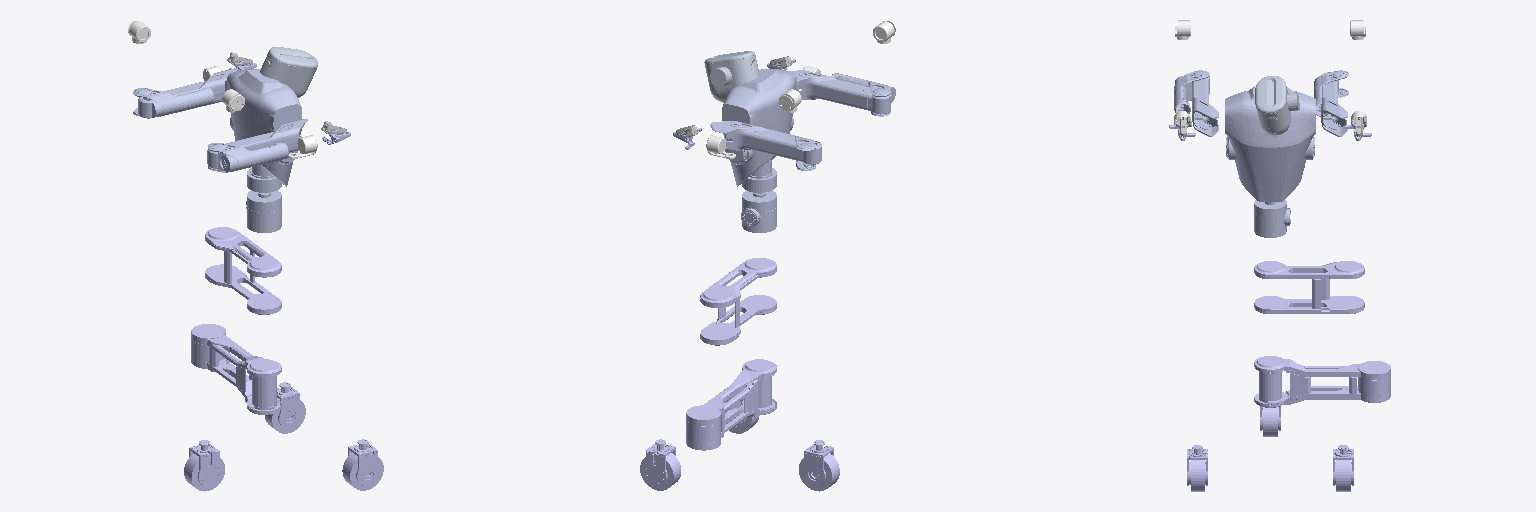
--- Facts derived from the render (not from the file) ---
3 views of the same robot in one strip: view 1: azimuth 30°, elevation 25°; view 2: azimuth 150°, elevation 25°; view 3: azimuth 270°, elevation 25° (orthographic).
Robot: R1 — 30 links, 29 joints (19 revolute, 3 continuous, 4 prismatic, 3 fixed); root link base_link; default pose: all joints at 0.
Links seen in each view (by area): view 1: torso_link4, torso_link1, torso_link2, zed_link, right_arm_link3, torso_link3, left_arm_link3, right_arm_link2, left_arm_link2, servo_link3, servo_link2, servo_link1 (+2 smaller); view 2: torso_link4, torso_link1, torso_link2, left_arm_link2, right_arm_link2, zed_link, torso_link3, servo_link1, servo_link3, wheel_link3, right_arm_link3, wheel_link1; view 3: torso_link4, torso_link1, torso_link2, zed_link, torso_link3, right_arm_link2, left_arm_link2, right_arm_link3, left_arm_link3.
Boxes of the visible links, x1=… form: torso_link4: x1=225, y1=69, x2=301, y2=192; torso_link1: x1=191, y1=324, x2=281, y2=414; torso_link2: x1=205, y1=227, x2=281, y2=314; zed_link: x1=260, y1=47, x2=317, y2=97; right_arm_link3: x1=208, y1=142, x2=288, y2=172; torso_link3: x1=246, y1=190, x2=281, y2=232; left_arm_link3: x1=133, y1=88, x2=213, y2=117; right_arm_link2: x1=207, y1=119, x2=307, y2=168; left_arm_link2: x1=138, y1=68, x2=238, y2=118; servo_link3: x1=189, y1=440, x2=221, y2=486; servo_link2: x1=348, y1=439, x2=379, y2=485; servo_link1: x1=277, y1=382, x2=301, y2=428; torso_link4: x1=722, y1=69, x2=798, y2=192; torso_link1: x1=686, y1=359, x2=776, y2=450; torso_link2: x1=700, y1=258, x2=776, y2=345; left_arm_link2: x1=710, y1=121, x2=821, y2=164; right_arm_link2: x1=788, y1=70, x2=890, y2=114; zed_link: x1=704, y1=51, x2=759, y2=102; torso_link3: x1=741, y1=190, x2=776, y2=232; servo_link1: x1=644, y1=439, x2=675, y2=485; servo_link3: x1=802, y1=440, x2=833, y2=486; wheel_link3: x1=799, y1=453, x2=839, y2=491; right_arm_link3: x1=831, y1=73, x2=895, y2=116; wheel_link1: x1=640, y1=453, x2=680, y2=490; torso_link4: x1=1225, y1=86, x2=1315, y2=202; torso_link1: x1=1254, y1=356, x2=1390, y2=407; torso_link2: x1=1254, y1=261, x2=1364, y2=313; zed_link: x1=1255, y1=76, x2=1299, y2=134; torso_link3: x1=1254, y1=200, x2=1290, y2=237; right_arm_link2: x1=1192, y1=76, x2=1218, y2=136; left_arm_link2: x1=1321, y1=72, x2=1347, y2=136; right_arm_link3: x1=1174, y1=70, x2=1209, y2=113; left_arm_link3: x1=1314, y1=70, x2=1348, y2=116.
Size in the robot's own frame: 0.7034 by 0.8519 by 1.72 metres.
Meshes: 30 distinct files referenced, 29 mesh visuals loaded (29 binary STL); not drawn: 1 (reference not matched to a file when rendering).

robot.urdf — R1:
<?xml version="1.0" encoding="utf-8"?>
<!-- This URDF was automatically created by SolidWorks to URDF Exporter! Originally created by Stephen Brawner ([email redacted]) 
     Commit Version: 1.6.0-4-g7f85cfe  Build Version: 1.6.7995.38578
     For more information, please see http://wiki.ros.org/sw_urdf_exporter -->
<robot
  name="R1">
  <link
    name="base_link">
    <inertial>
      <origin
        xyz="-0.0030503 -9.6245E-05 0.14087"
        rpy="0 0 0" />
      <mass
        value="68.732" />
      <inertia
        ixx="1.5812"
        ixy="-1.0627E-05"
        ixz="0.053601"
        iyy="1.4648"
        iyz="5.7052E-06"
        izz="2.835" />
    </inertial>
    <visual>
      <origin
        xyz="0 0 0"
        rpy="0 0 0" />
      <geometry>
        <mesh
          filename="package://R1/meshes/base_link.STL" />
      </geometry>
      <material
        name="">
        <color
          rgba="0.82353 0.82353 1 1" />
      </material>
    </visual>
    <collision>
      <origin
        xyz="0 0 0"
        rpy="0 0 0" />
      <geometry>
        <mesh
          filename="package://R1/meshes/base_link.STL" />
      </geometry>
    </collision>
  </link>
  <link
    name="servo_link1">
    <inertial>
      <origin
        xyz="7.5341E-06 -0.0035676 -0.04821"
        rpy="0 0 0" />
      <mass
        value="1.0" />
      <inertia
        ixx="0.00021869"
        ixy="-3.4649E-09"
        ixz="2.6493E-09"
        iyy="0.00032528"
        iyz="2.5507E-07"
        izz="0.00015773" />
    </inertial>
    <visual>
      <origin
        xyz="0 0 0"
        rpy="0 0 0" />
      <geometry>
        <mesh
          filename="package://R1/meshes/servo_link1.STL" />
      </geometry>
      <material
        name="">
        <color
          rgba="0.82353 0.82353 1 1" />
      </material>
    </visual>
    <collision>
      <origin
        xyz="0 0 0"
        rpy="0 0 0" />
      <geometry>
        <mesh
          filename="package://R1/meshes/servo_link1.STL" />
      </geometry>
    </collision>
  </link>
  <joint
    name="servo_joint1"
    type="revolute">
    <origin
      xyz="0.21516 0.28001 0.116"
      rpy="0 0 0" />
    <parent
      link="base_link" />
    <child
      link="servo_link1" />
    <axis
      xyz="0 0 1" />
    <limit
      lower="-1.5708"
      upper="1.5708"
      effort="44"
      velocity="3.1416" />
  </joint>
  <link
    name="wheel_link1">
    <inertial>
      <origin
        xyz="-2.0533E-09 -6.2367E-09 -0.0277"
        rpy="0 0 0" />
      <mass
        value="2.2" />
      <inertia
        ixx="0.0012628"
        ixy="-5.7971E-09"
        ixz="-7.3456E-12"
        iyy="0.0012628"
        iyz="-1.6082E-11"
        izz="0.0020893" />
    </inertial>
    <visual>
      <origin
        xyz="0 0 0"
        rpy="0 0 0" />
      <geometry>
        <mesh
          filename="package://R1/meshes/wheel_link1.STL" />
      </geometry>
      <material
        name="">
        <color
          rgba="0.82353 0.82353 1 1" />
      </material>
    </visual>
    <collision>
      <origin
        xyz="0 0 0"
        rpy="0 0 0" />
      <geometry>
        <mesh
          filename="package://R1/meshes/wheel_link1.STL" />
      </geometry>
    </collision>
  </link>
  <joint
    name="wheel_joint1"
    type="continuous">
    <origin
      xyz="0 0.027694 -0.08765"
      rpy="-1.5708 0 0" />
    <parent
      link="servo_link1" />
    <child
      link="wheel_link1" />
    <axis
      xyz="0 0 1" />
  </joint>
  <link
    name="servo_link2">
    <inertial>
      <origin
        xyz="7.5219E-06 -0.0035675 -0.04821"
        rpy="0 0 0" />
      <mass
        value="1.0" />
      <inertia
        ixx="0.0002187"
        ixy="-3.4594E-09"
        ixz="2.4969E-09"
        iyy="0.00032528"
        iyz="2.5522E-07"
        izz="0.00015773" />
    </inertial>
    <visual>
      <origin
        xyz="0 0 0"
        rpy="0 0 0" />
      <geometry>
        <mesh
          filename="package://R1/meshes/servo_link2.STL" />
      </geometry>
      <material
        name="">
        <color
          rgba="0.82353 0.82353 1 1" />
      </material>
    </visual>
    <collision>
      <origin
        xyz="0 0 0"
        rpy="0 0 0" />
      <geometry>
        <mesh
          filename="package://R1/meshes/servo_link2.STL" />
      </geometry>
    </collision>
  </link>
  <joint
    name="servo_joint2"
    type="revolute">
    <origin
      xyz="0.21516 -0.27999 0.116"
      rpy="0 0 0" />
    <parent
      link="base_link" />
    <child
      link="servo_link2" />
    <axis
      xyz="0 0 1" />
    <limit
      lower="-1.5708"
      upper="1.5708"
      effort="44"
      velocity="3.1416" />
  </joint>
  <link
    name="wheel_link2">
    <inertial>
      <origin
        xyz="-2.0528E-09 -6.2367E-09 -0.0277"
        rpy="0 0 0" />
      <mass
        value="2.2" />
      <inertia
        ixx="0.0012628"
        ixy="-5.7971E-09"
        ixz="-7.3429E-12"
        iyy="0.0012628"
        iyz="-1.6081E-11"
        izz="0.0020893" />
    </inertial>
    <visual>
      <origin
        xyz="0 0 0"
        rpy="0 0 0" />
      <geometry>
        <mesh
          filename="package://R1/meshes/wheel_link2.STL" />
      </geometry>
      <material
        name="">
        <color
          rgba="0.82353 0.82353 1 1" />
      </material>
    </visual>
    <collision>
      <origin
        xyz="0 0 0"
        rpy="0 0 0" />
      <geometry>
        <mesh
          filename="package://R1/meshes/wheel_link2.STL" />
      </geometry>
    </collision>
  </link>
  <joint
    name="wheel_joint2"
    type="continuous">
    <origin
      xyz="0 0.0276943179214421 -0.0876499639638649"
      rpy="-1.5707948453441 0 0" />
    <parent
      link="servo_link2" />
    <child
      link="wheel_link2" />
    <axis
      xyz="0 0 1" />
  </joint>
  <link
    name="servo_link3">
    <inertial>
      <origin
        xyz="-7.163E-06 0.0035641 -0.04821"
        rpy="0 0 0" />
      <mass
        value="1.0" />
      <inertia
        ixx="0.0002187"
        ixy="-3.3419E-09"
        ixz="-2.0956E-09"
        iyy="0.00032528"
        iyz="-2.5463E-07"
        izz="0.00015773" />
    </inertial>
    <visual>
      <origin
        xyz="0 0 0"
        rpy="0 0 0" />
      <geometry>
        <mesh
          filename="package://R1/meshes/servo_link3.STL" />
      </geometry>
      <material
        name="">
        <color
          rgba="0.82353 0.82353 1 1" />
      </material>
    </visual>
    <collision>
      <origin
        xyz="0 0 0"
        rpy="0 0 0" />
      <geometry>
        <mesh
          filename="package://R1/meshes/servo_link3.STL" />
      </geometry>
    </collision>
  </link>
  <joint
    name="servo_joint3"
    type="revolute">
    <origin
      xyz="-0.28085 0 0.116"
      rpy="0 0 0" />
    <parent
      link="base_link" />
    <child
      link="servo_link3" />
    <axis
      xyz="0 0 1" />
    <limit
      lower="-1.5708"
      upper="1.5708"
      effort="44"
      velocity="3.1416" />
  </joint>
  <link
    name="wheel_link3">
    <inertial>
      <origin
        xyz="7.3358E-09 4.0895E-09 -0.0277"
        rpy="0 0 0" />
      <mass
        value="2.0" />
      <inertia
        ixx="0.0012628"
        ixy="-5.7894E-09"
        ixz="2.5267E-15"
        iyy="0.0012628"
        iyz="1.9268E-11"
        izz="0.0020893" />
    </inertial>
    <visual>
      <origin
        xyz="0 0 0"
        rpy="0 0 0" />
      <geometry>
        <mesh
          filename="package://R1/meshes/wheel_link3.STL" />
      </geometry>
      <material
        name="">
        <color
          rgba="0.82353 0.82353 1 1" />
      </material>
    </visual>
    <collision>
      <origin
        xyz="0 0 0"
        rpy="0 0 0" />
      <geometry>
        <mesh
          filename="package://R1/meshes/wheel_link3.STL" />
      </geometry>
    </collision>
  </link>
  <joint
    name="wheel_joint3"
    type="continuous">
    <origin
      xyz="0 0.027702 -0.08765"
      rpy="-1.5708 0 0" />
    <parent
      link="servo_link3" />
    <child
      link="wheel_link3" />
    <axis
      xyz="0 0 1" />
  </joint>
  <link
    name="torso_link1">
    <inertial>
      <origin
        xyz="0.00065636 -0.23142 0.0032247"
        rpy="0 0 0" />
      <mass
        value="10.0" />
      <inertia
        ixx="0.30931"
        ixy="0.00017473"
        ixz="7.7895E-06"
        iyy="0.0081222"
        iyz="-0.00013763"
        izz="0.30736" />
    </inertial>
    <visual>
      <origin
        xyz="0 0 0"
        rpy="0 0 0" />
      <geometry>
        <mesh
          filename="package://R1/meshes/torso_link1.STL" />
      </geometry>
      <material
        name="">
        <color
          rgba="0.82353 0.82353 1 1" />
      </material>
    </visual>
    <collision>
      <origin
        xyz="0 0 0"
        rpy="0 0 0" />
      <geometry>
        <mesh
          filename="package://R1/meshes/torso_link1.STL" />
      </geometry>
    </collision>
  </link>
  <joint
    name="torso_joint1"
    type="revolute">
    <origin
      xyz="-0.032845 0 0.301"
      rpy="-1.5708 0 0" />
    <parent
      link="base_link" />
    <child
      link="torso_link1" />
    <axis
      xyz="0 0 1" />
    <limit
      lower="-1.1345"
      upper="1.8326"
      effort="100"
      velocity="2.5" />
  </joint>
  <link
    name="torso_link2">
    <inertial>
      <origin
        xyz="0.0052517 -0.15711 0.014411"
        rpy="0 0 0" />
      <mass
        value="3.4" />
      <inertia
        ixx="0.026081"
        ixy="-0.00024541"
        ixz="-3.342E-07"
        iyy="0.0018515"
        iyz="-3.8476E-07"
        izz="0.027574" />
    </inertial>
    <visual>
      <origin
        xyz="0 0 0"
        rpy="0 0 0" />
      <geometry>
        <mesh
          filename="package://R1/meshes/torso_link2.STL" />
      </geometry>
      <material
        name="">
        <color
          rgba="0.82353 0.82353 1 1" />
      </material>
    </visual>
    <collision>
      <origin
        xyz="0 0 0"
        rpy="0 0 0" />
      <geometry>
        <mesh
          filename="package://R1/meshes/torso_link2.STL" />
      </geometry>
    </collision>
  </link>
  <joint
    name="torso_joint2"
    type="revolute">
    <origin
      xyz="0 -0.4 0"
      rpy="0 0 0" />
    <parent
      link="torso_link1" />
    <child
      link="torso_link2" />
    <axis
      xyz="0 0 1" />
    <limit
      lower="-2.7925"
      upper="2.5307"
      effort="100"
      velocity="2.5" />
  </joint>
  <link
    name="torso_link3">
    <inertial>
      <origin
        xyz="-7.8458E-08 -0.031308 -0.00018966"
        rpy="0 0 0" />
      <mass
        value="5.5" />
      <inertia
        ixx="0.0035869"
        ixy="-5.9704E-10"
        ixz="-4.4385E-10"
        iyy="0.0036236"
        iyz="-0.00010486"
        izz="0.0043819" />
    </inertial>
    <visual>
      <origin
        xyz="0 0 0"
        rpy="0 0 0" />
      <geometry>
        <mesh
          filename="package://R1/meshes/torso_link3.STL" />
      </geometry>
      <material
        name="">
        <color
          rgba="0.79216 0.81961 0.93333 1" />
      </material>
    </visual>
    <collision>
      <origin
        xyz="0 0 0"
        rpy="0 0 0" />
      <geometry>
        <mesh
          filename="package://R1/meshes/torso_link3.STL" />
      </geometry>
    </collision>
  </link>
  <joint
    name="torso_joint3"
    type="revolute">
    <origin
      xyz="0 -0.3 0"
      rpy="0 0 0" />
    <parent
      link="torso_link2" />
    <child
      link="torso_link3" />
    <axis
      xyz="0 0 -1" />
    <limit
      lower="-2.0944"
      upper="1.8326"
      effort="100"
      velocity="2.5" />
  </joint>
  <link
    name="torso_link4">
    <inertial>
      <origin
        xyz="-0.0025153 3.1179E-07 0.35873"
        rpy="0 0 0" />
      <mass
        value="16.778" />
      <inertia
        ixx="0.015187"
        ixy="7.199E-08"
        ixz="0.00054617"
        iyy="0.013478"
        iyz="-2.0225E-07"
        izz="0.017316" />
    </inertial>
    <visual>
      <origin
        xyz="0 0 0"
        rpy="0 0 0" />
      <geometry>
        <mesh
          filename="package://R1/meshes/torso_link4.STL" />
      </geometry>
      <material
        name="">
        <color
          rgba="0.79216 0.81961 0.93333 1" />
      </material>
    </visual>
    <collision>
      <origin
        xyz="0 0 0"
        rpy="0 0 0" />
      <geometry>
        <mesh
          filename="package://R1/meshes/torso_link4.STL" />
      </geometry>
    </collision>
  </link>
  <joint
    name="torso_joint4"
    type="revolute">
    <origin
      xyz="0 -0.12474 0"
      rpy="1.5708 0 0" />
    <parent
      link="torso_link3" />
    <child
      link="torso_link4" />
    <axis
      xyz="0 0 1" />
    <limit
      lower="-3.0543"
      upper="3.0543"
      effort="100"
      velocity="2.5" />
  </joint>
  <link
    name="zed_link">
    <inertial>
      <origin
        xyz="-0.070413 -2.7792E-07 -0.015905"
        rpy="0 0 0" />
      <mass
        value="3.3094" />
      <inertia
        ixx="0.012229"
        ixy="-1.333E-08"
        ixz="-0.00028961"
        iyy="0.010375"
        iyz="1.8965E-07"
        izz="0.014618" />
    </inertial>
    <visual>
      <origin
        xyz="0 0 0"
        rpy="0 0 0" />
      <geometry>
        <mesh
          filename="package://R1/meshes/zed_link.STL" />
      </geometry>
      <material
        name="">
        <color
          rgba="0.81176 0.84314 0.9098 1" />
      </material>
    </visual>
    <collision>
      <origin
        xyz="0 0 0"
        rpy="0 0 0" />
      <geometry>
        <mesh
          filename="package://R1/meshes/zed_link.STL" />
      </geometry>
    </collision>
  </link>
  <joint
    name="zed_axis"
    type="fixed">
    <origin
      xyz="0.06739 0 0.4753"
      rpy="0 0.34906 0" />
    <parent
      link="torso_link4" />
    <child
      link="zed_link" />
    <axis
      xyz="0 0 0" />
  </joint>
  <link
    name="left_arm_link1">
    <inertial>
      <origin
        xyz="0.0020734 0.00846 0.19171"
        rpy="0 0 0" />
      <mass
        value="1.319" />
      <inertia
        ixx="0.00058101"
        ixy="7.5672E-09"
        ixz="2.9207E-08"
        iyy="0.00070857"
        iyz="8.5639E-07"
        izz="0.00044583" />
    </inertial>
    <visual>
      <origin
        xyz="0 0 0"
        rpy="0 0 0" />
      <geometry>
        <mesh
          filename="package://R1/meshes/left_arm_link1.STL" />
      </geometry>
      <material
        name="">
        <color
          rgba="0.79216 0.81961 0.93333 1" />
      </material>
    </visual>
    <collision>
      <origin
        xyz="0 0 0"
        rpy="0 0 0" />
      <geometry>
        <mesh
          filename="package://R1/meshes/left_arm_link1.STL" />
      </geometry>
    </collision>
  </link>
  <joint
    name="left_arm_joint1"
    type="revolute">
    <origin
      xyz="-0.00033786 0.13608 0.27773"
      rpy="-1.5708 0 0" />
    <parent
      link="torso_link4" />
    <child
      link="left_arm_link1" />
    <axis
      xyz="0 0 1" />
    <limit
      lower="-2.8798"
      upper="2.8798"
      effort="40"
      velocity="20.944" />
  </joint>
  <link
    name="left_arm_link2">
    <inertial>
      <origin
        xyz="-0.23622 -0.016352 0.00013272"
        rpy="0 0 0" />
      <mass
        value="1.3" />
      <inertia
        ixx="0.00060638"
        ixy="0.000041817"
        ixz="-0.00014956"
        iyy="0.0075936"
        iyz="8.0916E-06"
        izz="0.0075712" />
    </inertial>
    <visual>
      <origin
        xyz="0 0 0"
        rpy="0 0 0" />
      <geometry>
        <mesh
          filename="package://R1/meshes/left_arm_link2.STL" />
      </geometry>
      <material
        name="">
        <color
          rgba="0.79216 0.81961 0.93333 1" />
      </material>
    </visual>
    <collision>
      <origin
        xyz="0 0 0"
        rpy="0 0 0" />
      <geometry>
        <mesh
          filename="package://R1/meshes/left_arm_link2.STL" />
      </geometry>
    </collision>
  </link>
  <joint
    name="left_arm_joint2"
    type="revolute">
    <origin
      xyz="0 0 0.11185"
      rpy="-1.5708 0 0" />
    <parent
      link="left_arm_link1" />
    <child
      link="left_arm_link2" />
    <axis
      xyz="0 0 1" />
    <limit
      lower="0"
      upper="3.2289"
      effort="40"
      velocity="20.944" />
  </joint>
  <link
    name="left_arm_link3">
    <inertial>
      <origin
        xyz="0.045114 -0.054616 0.00045585"
        rpy="0 0 0" />
      <mass
        value="0.818" />
      <inertia
        ixx="0.00060107"
        ixy="0.00022467"
        ixz="7.1198E-06"
        iyy="0.0013959"
        iyz="-9.7504E-06"
        izz="0.0015027" />
    </inertial>
    <visual>
      <origin
        xyz="0 0 0"
        rpy="0 0 0" />
      <geometry>
        <mesh
          filename="package://R1/meshes/left_arm_link3.STL" />
      </geometry>
      <material
        name="">
        <color
          rgba="0.79216 0.81961 0.93333 1" />
      </material>
    </visual>
    <collision>
      <origin
        xyz="0 0 0"
        rpy="0 0 0" />
      <geometry>
        <mesh
          filename="package://R1/meshes/left_arm_link3.STL" />
      </geometry>
    </collision>
  </link>
  <joint
    name="left_arm_joint3"
    type="revolute">
    <origin
      xyz="-0.34928 -0.019999 0"
      rpy="0 0 0" />
    <parent
      link="left_arm_link2" />
    <child
      link="left_arm_link3" />
    <axis
      xyz="0 0 1" />
    <limit
      lower="-3.3161"
      upper="0"
      effort="27"
      velocity="7.5398" />
  </joint>
  <link
    name="left_arm_link4">
    <inertial>
      <origin
        xyz="8.1603E-07 -0.0023773 0.24285"
        rpy="0 0 0" />
      <mass
        value="0.816" />
      <inertia
        ixx="9.7044E-05"
        ixy="-5.3698E-09"
        ixz="-2.2378E-09"
        iyy="0.00010174"
        iyz="8.2619E-07"
        izz="8.45E-05" />
    </inertial>
    <visual>
      <origin
        xyz="0 0 0"
        rpy="0 0 0" />
      <geometry>
        <mesh
          filename="package://R1/meshes/left_arm_link4.STL" />
      </geometry>
      <material
        name="">
        <color
          rgba="1 1 1 1" />
      </material>
    </visual>
    <collision>
      <origin
        xyz="0 0 0"
        rpy="0 0 0" />
      <geometry>
        <mesh
          filename="package://R1/meshes/left_arm_link4.STL" />
      </geometry>
    </collision>
  </link>
  <joint
    name="left_arm_joint4"
    type="revolute">
    <origin
      xyz="0.02735 -0.069767 0"
      rpy="-3.1416 1.5708 3.1416" />
    <parent
      link="left_arm_link3" />
    <child
      link="left_arm_link4" />
    <axis
      xyz="0 0 1" />
    <limit
      lower="-2.8798"
      upper="2.8798"
      effort="7"
      velocity="25.133" />
  </joint>
  <link
    name="left_arm_link5">
    <inertial>
      <origin
        xyz="0.054309 3.4828E-05 0.0011809"
        rpy="0 0 0" />
      <mass
        value="0.801" />
      <inertia
        ixx="8.3999E-05"
        ixy="3.6184E-08"
        ixz="1.6234E-05"
        iyy="0.00011332"
        iyz="-9.2707E-08"
        izz="9.8499E-05" />
    </inertial>
    <visual>
      <origin
        xyz="0 0 0"
        rpy="0 0 0" />
      <geometry>
        <mesh
          filename="package://R1/meshes/left_arm_link5.STL" />
      </geometry>
      <material
        name="">
        <color
          rgba="1 1 1 1" />
      </material>
    </visual>
    <collision>
      <origin
        xyz="0 0 0"
        rpy="0 0 0" />
      <geometry>
        <mesh
          filename="package://R1/meshes/left_arm_link5.STL" />
      </geometry>
    </collision>
  </link>
  <joint
    name="left_arm_joint5"
    type="revolute">
    <origin
      xyz="0 -0.0025 0.2463"
      rpy="1.5708 -1.5703 0.0077846" />
    <parent
      link="left_arm_link4" />
    <child
      link="left_arm_link5" />
    <axis
      xyz="0 0 1" />
    <limit
      lower="-1.6581"
      upper="1.6581"
      effort="7"
      velocity="25.133" />
  </joint>
  <link
    name="left_arm_link6">
    <inertial>
      <origin
        xyz="-1.4611E-07 6.6949E-08 -0.031107"
        rpy="0 0 0" />
      <mass
        value="0.465" />
      <inertia
        ixx="0.00016512"
        ixy="8.1954E-08"
        ixz="-5.3428E-10"
        iyy="9.8637E-05"
        iyz="-2.3917E-10"
        izz="0.00017588" />
    </inertial>
    <visual>
      <origin
        xyz="0 0 0"
        rpy="0 0 0" />
      <geometry>
        <mesh
          filename="package://R1/meshes/left_arm_link6.STL" />
      </geometry>
      <material
        name="">
        <color
          rgba="0.82353 0.82353 1 1" />
      </material>
    </visual>
    <collision>
      <origin
        xyz="0 0 0"
        rpy="0 0 0" />
      <geometry>
        <mesh
          filename="package://R1/meshes/left_arm_link6.STL" />
      </geometry>
    </collision>
  </link>
  <joint
    name="left_arm_joint6"
    type="revolute">
    <origin
      xyz="0.16215 6.8925E-05 -0.0024999"
      rpy="-1.5708 -0.0077846 -1.5702" />
    <parent
      link="left_arm_link5" />
    <child
      link="left_arm_link6" />
    <axis
      xyz="0 0 1" />
    <limit
      lower="-2.8798"
      upper="2.8798"
      effort="7"
      velocity="25.133" />
  </joint>
  <link
    name="left_realsense_link">
    <inertial>
      <origin
        xyz="-0.017353 -0.022126 -0.0061733"
        rpy="0 0 0" />
      <mass
        value="0.042603" />
      <inertia
        ixx="2.5513E-05"
        ixy="-1.2897E-06"
        ixz="1.4177E-06"
        iyy="6.9283E-06"
        iyz="2.5458E-06"
        izz="2.3318E-05" />
    </inertial>
    <visual>
      <origin
        xyz="0 0 0"
        rpy="0 0 0" />
      <geometry>
        <mesh
          filename="package://R1/meshes/left_realsense_link.STL" />
      </geometry>
      <material
        name="">
        <color
          rgba="0.8 0.8 0.8 1" />
      </material>
    </visual>
    <collision>
      <origin
        xyz="0 0 0"
        rpy="0 0 0" />
      <geometry>
        <mesh
          filename="package://R1/meshes/left_realsense_link.STL" />
      </geometry>
    </collision>
  </link>
  <joint
    name="left_realsense_axis"
    type="fixed">
    <origin
      xyz="0.050549 -0.0021066 -0.0051314"
      rpy="-0.0070534 -1.1345 -3.1338" />
    <parent
      link="left_arm_link6" />
    <child
      link="left_realsense_link" />
    <axis
      xyz="0 0 0" />
  </joint>
  <link
    name="left_gripper_link1">
    <inertial>
      <origin
        xyz="-0.019586 -0.0055507 -0.015071"
        rpy="0 0 0" />
      <mass
        value="0.057" />
      <inertia
        ixx="2.4057E-06"
        ixy="-5.033E-08"
        ixz="3.9941E-07"
        iyy="6.4838E-06"
        iyz="-6.7746E-08"
        izz="5.7118E-06" />
    </inertial>
    <visual>
      <origin
        xyz="0 0 0"
        rpy="0 0 0" />
      <geometry>
        <mesh
          filename="package://R1/meshes/left_gripper_link1.STL" />
      </geometry>
      <material
        name="">
        <color
          rgba="0.82353 0.82353 1 1" />
      </material>
    </visual>
    <collision>
      <origin
        xyz="0 0 0"
        rpy="0 0 0" />
      <geometry>
        <mesh
          filename="package://R1/meshes/left_gripper_link1.STL" />
      </geometry>
    </collision>
  </link>
  <joint
    name="left_gripper_axis1"
    type="prismatic">
    <origin
      xyz="0.00012069 -0.013453 0.03689"
      rpy="1.5745 -1.5702 0.0041033" />
    <parent
      link="left_arm_link6" />
    <child
      link="left_gripper_link1" />
    <axis
      xyz="0 0 1" />
    <limit
      lower="0"
      upper="0.05"
      effort="100"
      velocity="0.25" />
  </joint>
  <link
    name="left_gripper_link2">
    <inertial>
      <origin
        xyz="-0.019593 -0.0055293 -0.015071"
        rpy="0 0 0" />
      <mass
        value="0.057" />
      <inertia
        ixx="2.4056E-06"
        ixy="-4.5884E-08"
        ixz="3.9934E-07"
        iyy="6.4839E-06"
        iyz="-6.8181E-08"
        izz="5.7118E-06" />
    </inertial>
    <visual>
      <origin
        xyz="0 0 0"
        rpy="0 0 0" />
      <geometry>
        <mesh
          filename="package://R1/meshes/left_gripper_link2.STL" />
      </geometry>
      <material
        name="">
        <color
          rgba="0.82353 0.82353 1 1" />
      </material>
    </visual>
    <collision>
      <origin
        xyz="0 0 0"
        rpy="0 0 0" />
      <geometry>
        <mesh
          filename="package://R1/meshes/left_gripper_link2.STL" />
      </geometry>
    </collision>
  </link>
  <joint
    name="left_gripper_axis2"
    type="prismatic">
    <origin
      xyz="-0.00012054 0.013453 0.03689"
      rpy="-1.5671 -1.5702 0.0041033" />
    <parent
      link="left_arm_link6" />
    <child
      link="left_gripper_link2" />
    <axis
      xyz="0 0 1" />
    <limit
      lower="0"
      upper="0.05"
      effort="100"
      velocity="0.25" />
  </joint>
  <link
    name="right_arm_link1">
    <inertial>
      <origin
        xyz="0.0020139 0.0089421 0.19171"
        rpy="0 0 0" />
      <mass
        value="1.319" />
      <inertia
        ixx="0.00058101"
        ixy="-7.5672E-09"
        ixz="-2.9207E-08"
        iyy="0.00070857"
        iyz="8.5639E-07"
        izz="0.00044583" />
    </inertial>
    <visual>
      <origin
        xyz="0 0 0"
        rpy="0 0 0" />
      <geometry>
        <mesh
          filename="package://R1/meshes/right_arm_link1.STL" />
      </geometry>
      <material
        name="">
        <color
          rgba="0.79216 0.81961 0.93333 1" />
      </material>
    </visual>
    <collision>
      <origin
        xyz="0 0 0"
        rpy="0 0 0" />
      <geometry>
        <mesh
          filename="package://R1/meshes/right_arm_link1.STL" />
      </geometry>
    </collision>
  </link>
  <joint
    name="right_arm_joint1"
    type="revolute">
    <origin
      xyz="-0.0003367 -0.13609 0.27773"
      rpy="1.5786 -0.00054698 0" />
    <parent
      link="torso_link4" />
    <child
      link="right_arm_link1" />
    <axis
      xyz="0 0 1" />
    <limit
      lower="-2.8798"
      upper="2.8798"
      effort="40"
      velocity="20.944" />
  </joint>
  <link
    name="right_arm_link2">
    <inertial>
      <origin
        xyz="-0.23622 -0.016354 0.00013181"
        rpy="0 0 0" />
      <mass
        value="1.3" />
      <inertia
        ixx="0.00060639"
        ixy="-0.00041823"
        ixz="-0.00014959"
        iyy="0.0075936"
        iyz="-8.0946E-06"
        izz="0.0075712" />
    </inertial>
    <visual>
      <origin
        xyz="0 0 0"
        rpy="0 0 0" />
      <geometry>
        <mesh
          filename="package://R1/meshes/right_arm_link2.STL" />
      </geometry>
      <material
        name="">
        <color
          rgba="0.79216 0.81961 0.93333 1" />
      </material>
    </visual>
    <collision>
      <origin
        xyz="0 0 0"
        rpy="0 0 0" />
      <geometry>
        <mesh
          filename="package://R1/meshes/right_arm_link2.STL" />
      </geometry>
    </collision>
  </link>
  <joint
    name="right_arm_joint2"
    type="revolute">
    <origin
      xyz="0 0.00087053 0.11185"
      rpy="-1.5786 0 -0.00054696" />
    <parent
      link="right_arm_link1" />
    <child
      link="right_arm_link2" />
    <axis
      xyz="0 0 1" />
    <limit
      lower="0"
      upper="3.2289"
      effort="40"
      velocity="20.944" />
  </joint>
  <link
    name="right_arm_link3">
    <inertial>
      <origin
        xyz="0.045115 -0.054616 0.00045605"
        rpy="0 0 0" />
      <mass
        value="0.818" />
      <inertia
        ixx="0.00060107"
        ixy="0.00022466"
        ixz="7.1151E-06"
        iyy="0.0013959"
        iyz="-9.7494E-06"
        izz="0.0015027" />
    </inertial>
    <visual>
      <origin
        xyz="0 0 0"
        rpy="0 0 0" />
      <geometry>
        <mesh
          filename="package://R1/meshes/right_arm_link3.STL" />
      </geometry>
      <material
        name="">
        <color
          rgba="0.79216 0.81961 0.93333 1" />
      </material>
    </visual>
    <collision>
      <origin
        xyz="0 0 0"
        rpy="0 0 0" />
      <geometry>
        <mesh
          filename="package://R1/meshes/right_arm_link3.STL" />
      </geometry>
    </collision>
  </link>
  <joint
    name="right_arm_joint3"
    type="revolute">
    <origin
      xyz="-0.34928 -0.020001 0"
      rpy="0 0 0" />
    <parent
      link="right_arm_link2" />
    <child
      link="right_arm_link3" />
    <axis
      xyz="0 0 1" />
    <limit
      lower="-3.3161"
      upper="0"
      effort="27"
      velocity="7.5398" />
  </joint>
  <link
    name="right_arm_link4">
    <inertial>
      <origin
        xyz="-8.1603E-07 0.0023773 0.24285"
        rpy="0 0 0" />
      <mass
        value="0.816" />
      <inertia
        ixx="9.7044E-05"
        ixy="-5.3698E-09"
        ixz="2.2378E-09"
        iyy="0.00010174"
        iyz="-8.2619E-07"
        izz="8.45E-05" />
    </inertial>
    <visual>
      <origin
        xyz="0 0 0"
        rpy="0 0 0" />
      <geometry>
        <mesh
          filename="package://R1/meshes/right_arm_link4.STL" />
      </geometry>
      <material
        name="">
        <color
          rgba="1 1 1 1" />
      </material>
    </visual>
    <collision>
      <origin
        xyz="0 0 0"
        rpy="0 0 0" />
      <geometry>
        <mesh
          filename="package://R1/meshes/right_arm_link4.STL" />
      </geometry>
    </collision>
  </link>
  <joint
    name="right_arm_joint4"
    type="revolute">
    <origin
      xyz="0.02735 -0.069767 0"
      rpy="0 -1.5708 3.1416" />
    <parent
      link="right_arm_link3" />
    <child
      link="right_arm_link4" />
    <axis
      xyz="0 0 1" />
    <limit
      lower="-2.8798"
      upper="2.8798"
      effort="7"
      velocity="25.133" />
  </joint>
  <link
    name="right_arm_link5">
    <inertial>
      <origin
        xyz="0.054309 -2.4377E-05 0.0011809"
        rpy="0 0 0" />
      <mass
        value="0.801" />
      <inertia
        ixx="8.4E-05"
        ixy="6.8153E-08"
        ixz="1.6234E-05"
        iyy="0.00011332"
        iyz="-1.104E-07"
        izz="9.8499E-05" />
    </inertial>
    <visual>
      <origin
        xyz="0 0 0"
        rpy="0 0 0" />
      <geometry>
        <mesh
          filename="package://R1/meshes/right_arm_link5.STL" />
      </geometry>
      <material
        name="">
        <color
          rgba="1 1 1 1" />
      </material>
    </visual>
    <collision>
      <origin
        xyz="0 0 0"
        rpy="0 0 0" />
      <geometry>
        <mesh
          filename="package://R1/meshes/right_arm_link5.STL" />
      </geometry>
    </collision>
  </link>
  <joint
    name="right_arm_joint5"
    type="revolute">
    <origin
      xyz="0 0.0025 0.2463"
      rpy="-1.5708 -1.5703 0.0077846" />
    <parent
      link="right_arm_link4" />
    <child
      link="right_arm_link5" />
    <axis
      xyz="0 0 1" />
    <limit
      lower="-1.6581"
      upper="1.6581"
      effort="7"
      velocity="25.133" />
  </joint>
  <link
    name="right_arm_link6">
    <inertial>
      <origin
        xyz="-2.223E-08 -5.7207E-08 -0.031107"
        rpy="0 0 0" />
      <mass
        value="0.465" />
      <inertia
        ixx="0.00016512"
        ixy="-4.3557E-07"
        ixz="-5.7705E-10"
        iyy="9.864E-05"
        iyz="7.4373E-11"
        izz="0.00017588" />
    </inertial>
    <visual>
      <origin
        xyz="0 0 0"
        rpy="0 0 0" />
      <geometry>
        <mesh
          filename="package://R1/meshes/right_arm_link6.STL" />
      </geometry>
      <material
        name="">
        <color
          rgba="0.82353 0.82353 1 1" />
      </material>
    </visual>
    <collision>
      <origin
        xyz="0 0 0"
        rpy="0 0 0" />
      <geometry>
        <mesh
          filename="package://R1/meshes/right_arm_link6.STL" />
      </geometry>
    </collision>
  </link>
  <joint
    name="right_arm_joint6"
    type="revolute">
    <origin
      xyz="0.16215 -0.00010784 -0.0024999"
      rpy="1.5708 0 1.5703" />
    <parent
      link="right_arm_link5" />
    <child
      link="right_arm_link6" />
    <axis
      xyz="0 0 1" />
    <limit
      lower="-2.8798"
      upper="2.8798"
      effort="7"
      velocity="25.133" />
  </joint>
  <link
    name="right_realsense_link">
    <inertial>
      <origin
        xyz="-0.017353 -0.022169 -0.0060171"
        rpy="0 0 0" />
      <mass
        value="0.042603" />
      <inertia
        ixx="2.5513E-05"
        ixy="-1.2797E-06"
        ixz="1.4268E-06"
        iyy="6.965E-06"
        iyz="2.6612E-06"
        izz="2.3281E-05" />
    </inertial>
    <visual>
      <origin
        xyz="0 0 0"
        rpy="0 0 0" />
      <geometry>
        <mesh
          filename="package://R1/meshes/right_realsense_link.STL" />
      </geometry>
      <material
        name="">
        <color
          rgba="0.8 0.8 0.8 1" />
      </material>
    </visual>
    <collision>
      <origin
        xyz="0 0 0"
        rpy="0 0 0" />
      <geometry>
        <mesh
          filename="package://R1/meshes/right_realsense_link.STL" />
      </geometry>
    </collision>
  </link>
  <joint
    name="right_realsense_axis"
    type="fixed">
    <origin
      xyz="0.050549 -0.0021066 -0.0051378"
      rpy="0 -1.1345 -3.1338" />
    <parent
      link="right_arm_link6" />
    <child
      link="right_realsense_link" />
    <axis
      xyz="0 0 0" />
  </joint>
  <link
    name="right_gripper_link1">
    <inertial>
      <origin
        xyz="-0.019593 -0.0055293 -0.015071"
        rpy="0 0 0" />
      <mass
        value="0.057" />
      <inertia
        ixx="2.4056E-06"
        ixy="-4.5884E-08"
        ixz="3.9934E-07"
        iyy="6.4839E-06"
        iyz="-6.8181E-08"
        izz="5.7118E-06" />
    </inertial>
    <visual>
      <origin
        xyz="0 0 0"
        rpy="0 0 0" />
      <geometry>
        <mesh
          filename="package://R1/meshes/right_gripper_link1.STL" />
      </geometry>
      <material
        name="">
        <color
          rgba="0.82353 0.82353 1 1" />
      </material>
    </visual>
    <collision>
      <origin
        xyz="0 0 0"
        rpy="0 0 0" />
      <geometry>
        <mesh
          filename="package://R1/meshes/right_gripper_link1.STL" />
      </geometry>
    </collision>
  </link>
  <joint
    name="right_gripper_axis1"
    type="prismatic">
    <origin
      xyz="-1.5963E-05 0.013454 0.03689"
      rpy="-1.5745 -1.5703 0.0037081" />
    <parent
      link="right_arm_link6" />
    <child
      link="right_gripper_link1" />
    <axis
      xyz="0 0 1" />
    <limit
      lower="0"
      upper="0.05"
      effort="100"
      velocity="0.25" />
  </joint>
  <link
    name="right_gripper_link2">
    <inertial>
      <origin
        xyz="-0.019586 -0.0055507 -0.015071"
        rpy="0 0 0" />
      <mass
        value="0.057" />
      <inertia
        ixx="2.4057E-06"
        ixy="-5.033E-08"
        ixz="3.9941E-07"
        iyy="6.4838E-06"
        iyz="-6.7746E-08"
        izz="5.7118E-06" />
    </inertial>
    <visual>
      <origin
        xyz="0 0 0"
        rpy="0 0 0" />
      <geometry>
        <mesh
          filename="package://R1/meshes/right_gripper_link2.STL" />
      </geometry>
      <material
        name="">
        <color
          rgba="0.82353 0.82353 1 1" />
      </material>
    </visual>
    <collision>
      <origin
        xyz="0 0 0"
        rpy="0 0 0" />
      <geometry>
        <mesh
          filename="package://R1/meshes/right_gripper_link2.STL" />
      </geometry>
    </collision>
  </link>
  <joint
    name="right_gripper_axis2"
    type="prismatic">
    <origin
      xyz="1.5816E-05 -0.013454 0.03689"
      rpy="1.5671 -1.5703 0.0037081" />
    <parent
      link="right_arm_link6" />
    <child
      link="right_gripper_link2" />
    <axis
      xyz="0 0 1" />
    <limit
      lower="0"
      upper="0.05"
      effort="100"
      velocity="0.25" />
  </joint>
</robot>
